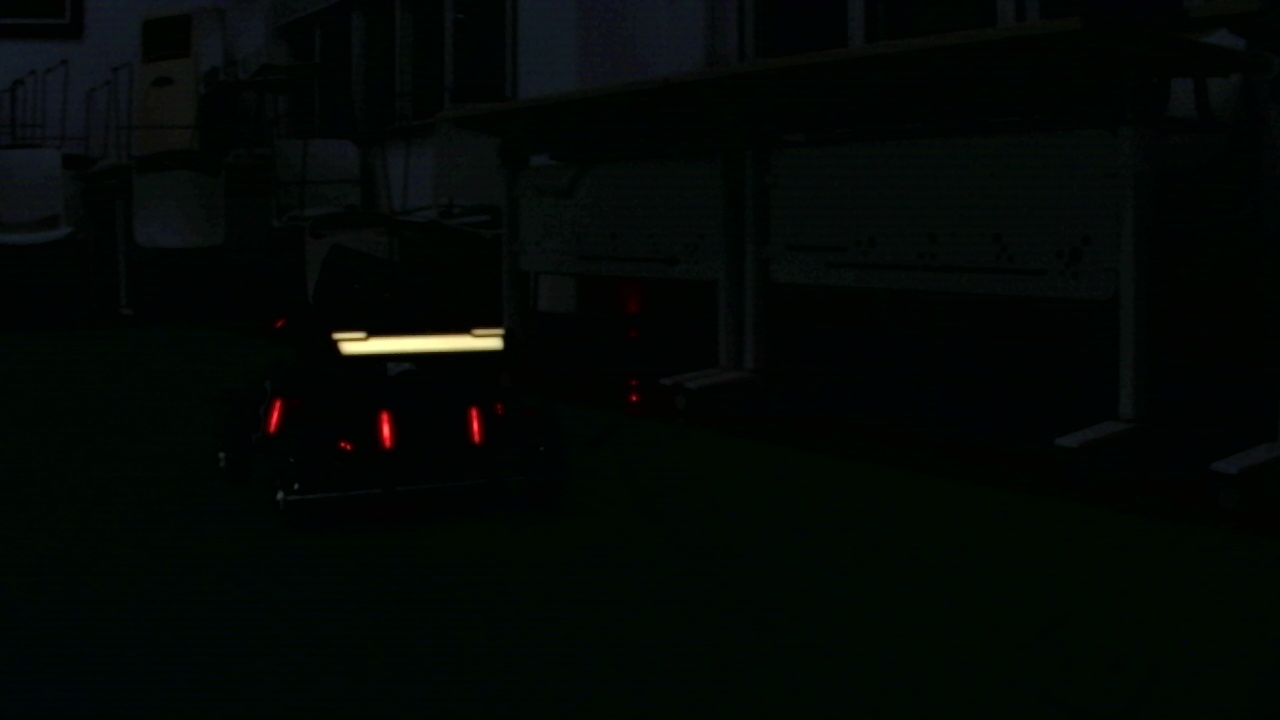lamp: (378, 407, 394, 451), (268, 397, 281, 438), (470, 405, 482, 447)
pair1: (378, 407, 479, 442)
